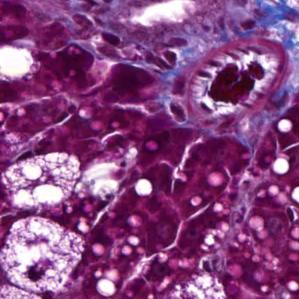ballooning: (0, 215, 87, 294), (2, 149, 83, 212)
